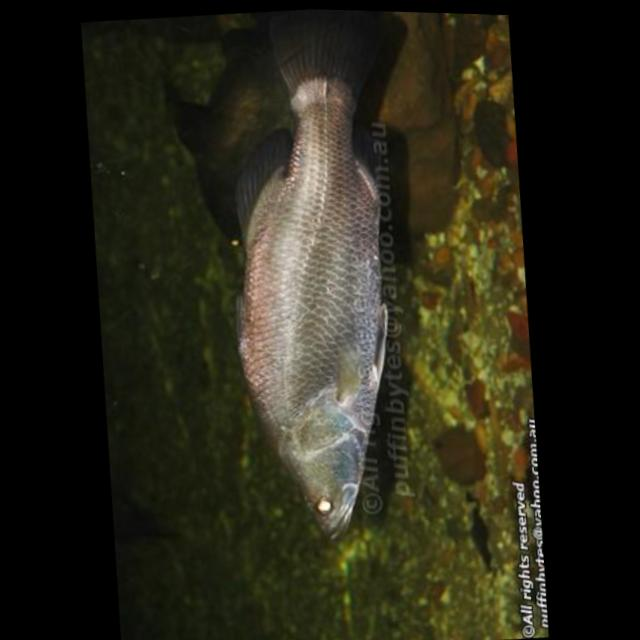Seabass: (198, 6, 439, 553)
